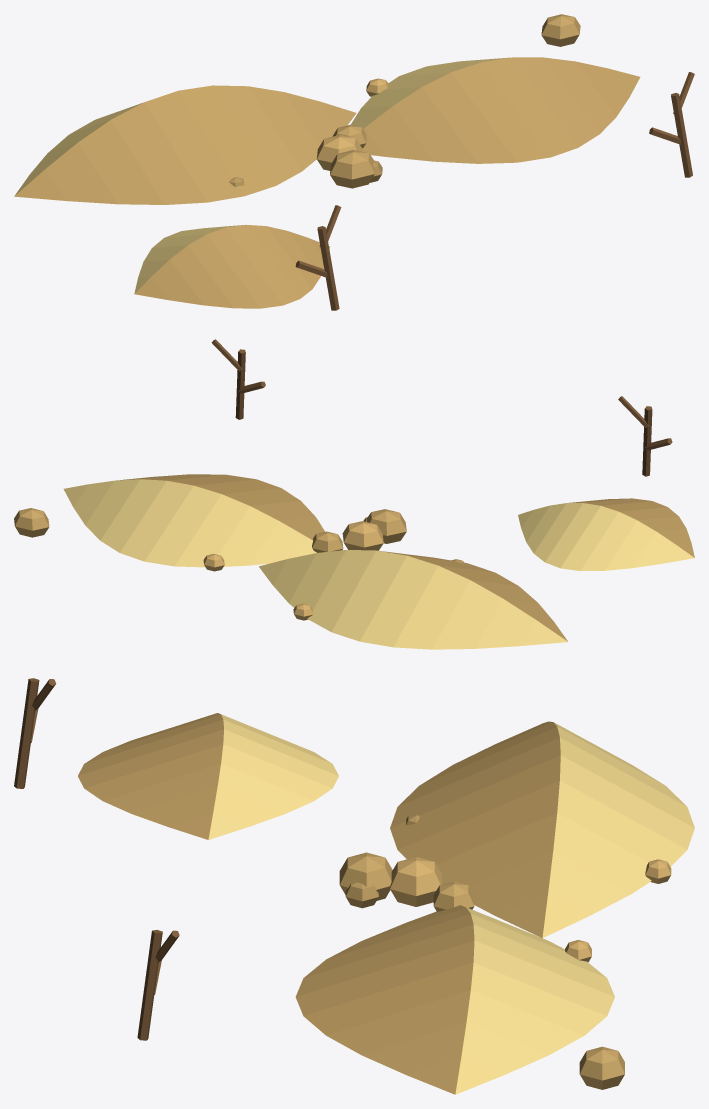
The model's file is terrain-desert-1.glb.
3 renders of one model, top to bottom at view 1: azimuth 30°, elevation 25°; view 2: azimuth 150°, elevation 25°; view 3: azimuth 270°, elevation 25°, orthographic. The views are drawn at different scales.
Visible parts, largest first — view 1: terrain-desert-1.001, terrain-desert-1, terrain-desert-1.004, terrain-desert-1.002, terrain-desert-1.003; view 2: terrain-desert-1, terrain-desert-1.001, terrain-desert-1.004, terrain-desert-1.002, terrain-desert-1.003; view 3: terrain-desert-1.001, terrain-desert-1, terrain-desert-1.004, terrain-desert-1.002, terrain-desert-1.003, terrain-desert-1.005.
Boxes of the visible parts, x1,y1,x2,y2 form: terrain-desert-1.001: [14, 57, 640, 308]; terrain-desert-1: [14, 57, 509, 293]; terrain-desert-1.004: [330, 14, 580, 188]; terrain-desert-1.002: [295, 72, 694, 310]; terrain-desert-1.003: [316, 78, 389, 170]; terrain-desert-1: [63, 479, 694, 649]; terrain-desert-1.001: [116, 474, 694, 641]; terrain-desert-1.004: [14, 508, 406, 552]; terrain-desert-1.002: [211, 339, 672, 476]; terrain-desert-1.003: [203, 521, 383, 620]; terrain-desert-1.001: [78, 713, 560, 1094]; terrain-desert-1: [208, 714, 694, 1094]; terrain-desert-1.004: [339, 852, 624, 1089]; terrain-desert-1.002: [14, 678, 179, 1040]; terrain-desert-1.003: [390, 857, 671, 962]; terrain-desert-1.005: [345, 814, 419, 908].
Bounding box in the file's own units: 1.23 × 0.2042 × 0.9377.
